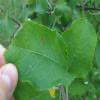Apple Scab Leaf: (4, 19, 72, 92)
